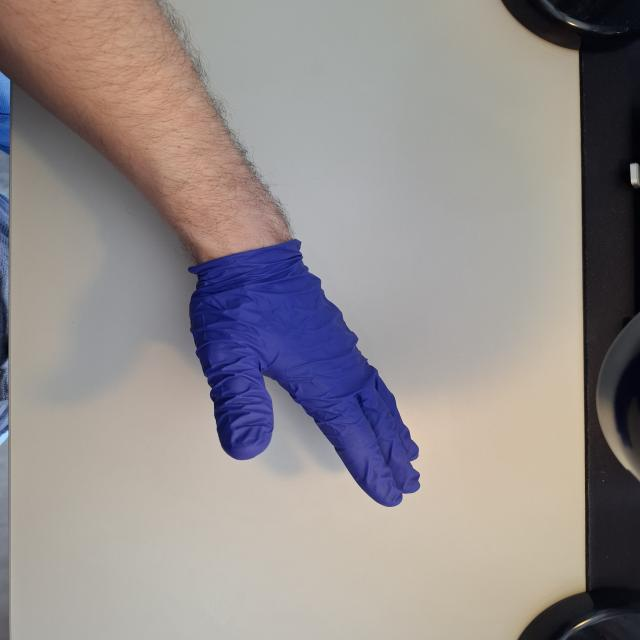glove_on: (184, 243, 424, 509)
